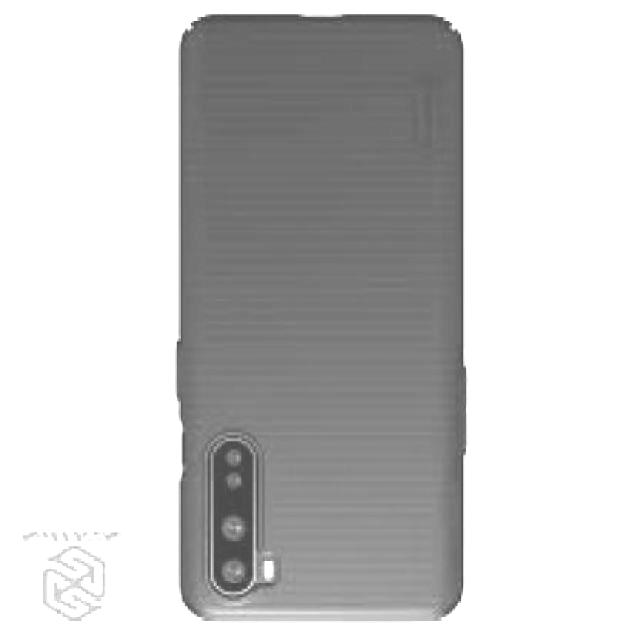fake: (177, 14, 463, 620)
